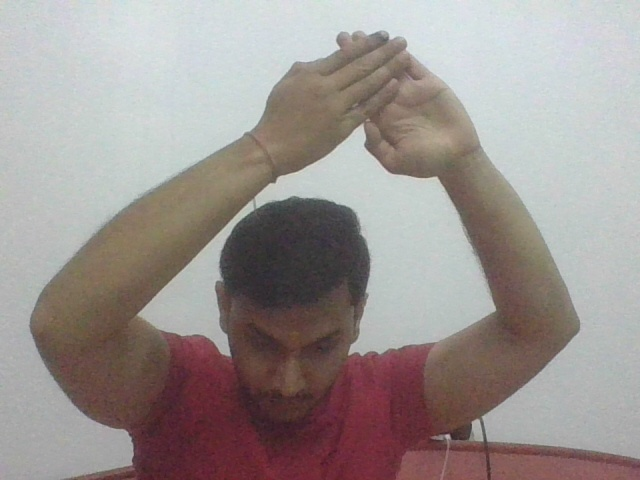H: (271, 27, 467, 181)
